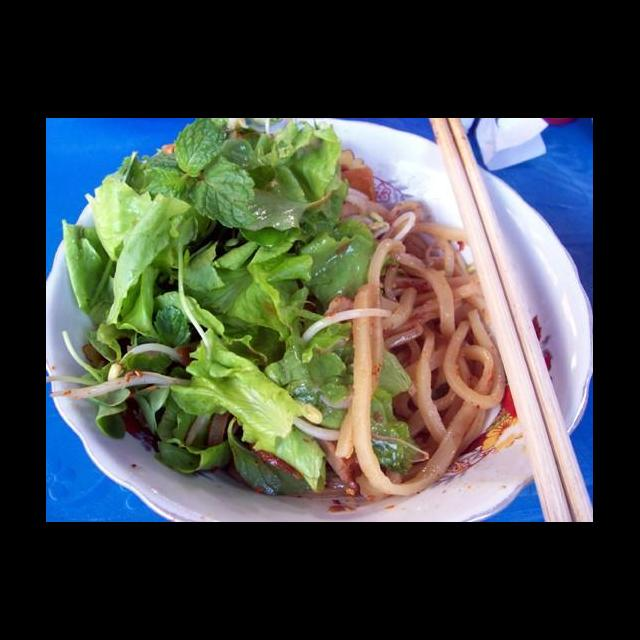mi: (320, 197, 510, 507)
